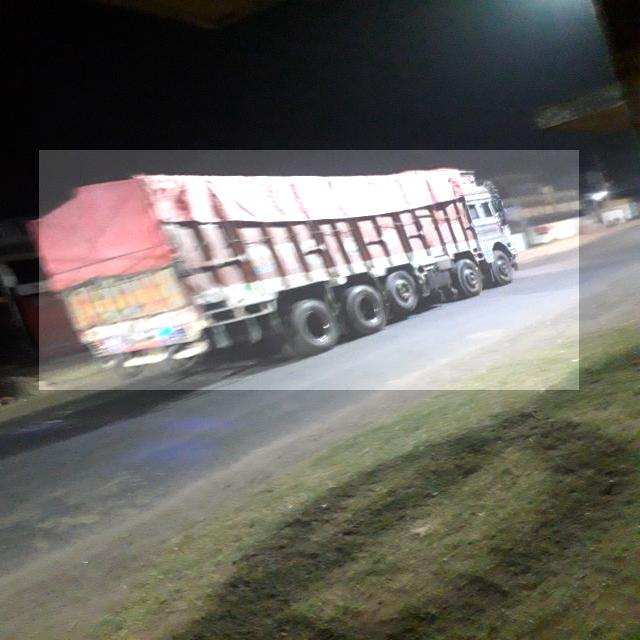Truck: (39, 150, 580, 390)
